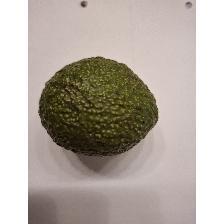Avocado: (36, 54, 162, 158)
